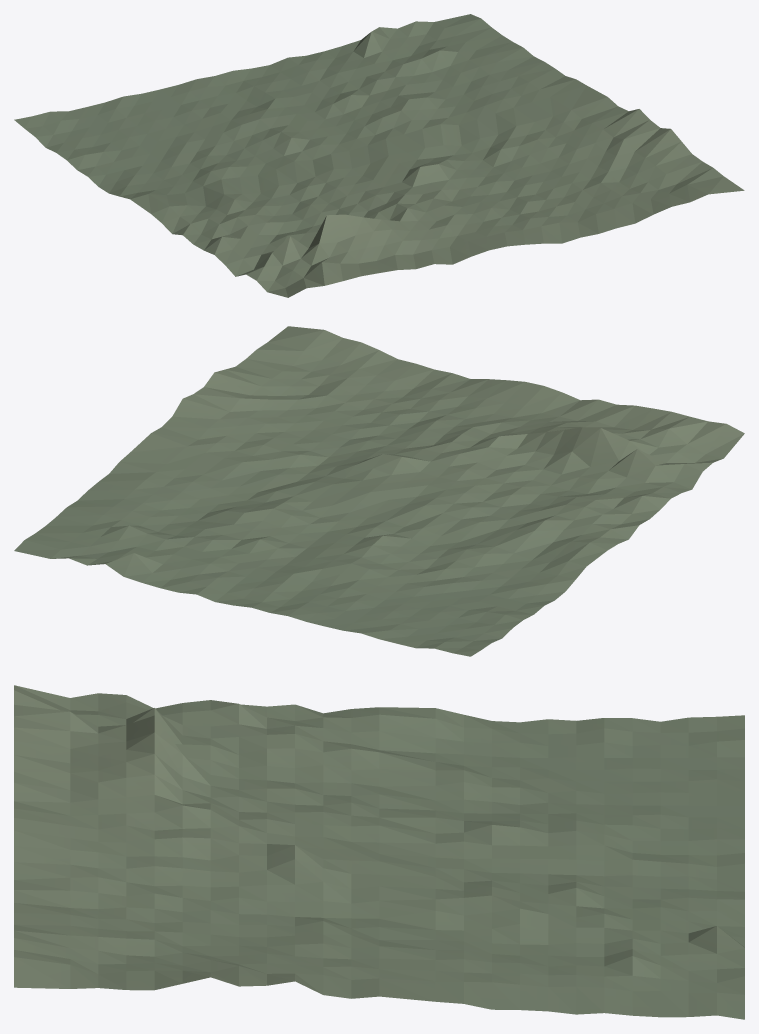
The model's file is tile_1_0.glb.
3 views of the same model, one above another, from view 1: azimuth 30°, elevation 25°; view 2: azimuth 150°, elevation 25°; view 3: azimuth 270°, elevation 25° (orthographic). The views are drawn at different scales.
Visible parts, largest first — view 1: geometry_0; view 2: geometry_0; view 3: geometry_0.
Part boxes in pixels (bbox=[...]): geometry_0: bbox=[14, 14, 744, 297]; geometry_0: bbox=[14, 326, 744, 656]; geometry_0: bbox=[14, 685, 744, 1019].
Bounding box in the file's own units: 123 × 13.36 × 127.
